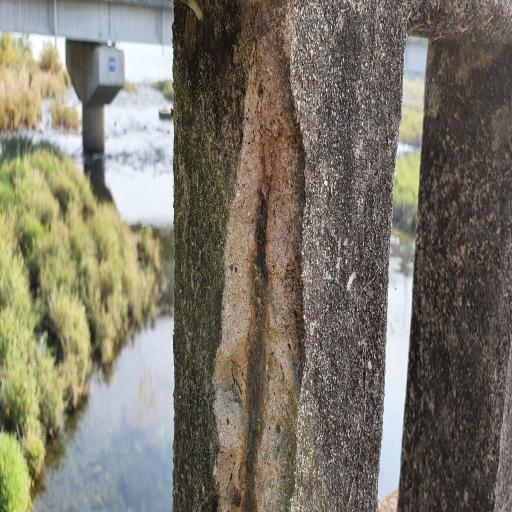exposed_rebar: (246, 197, 269, 509)
spalling: (214, 0, 303, 512)
